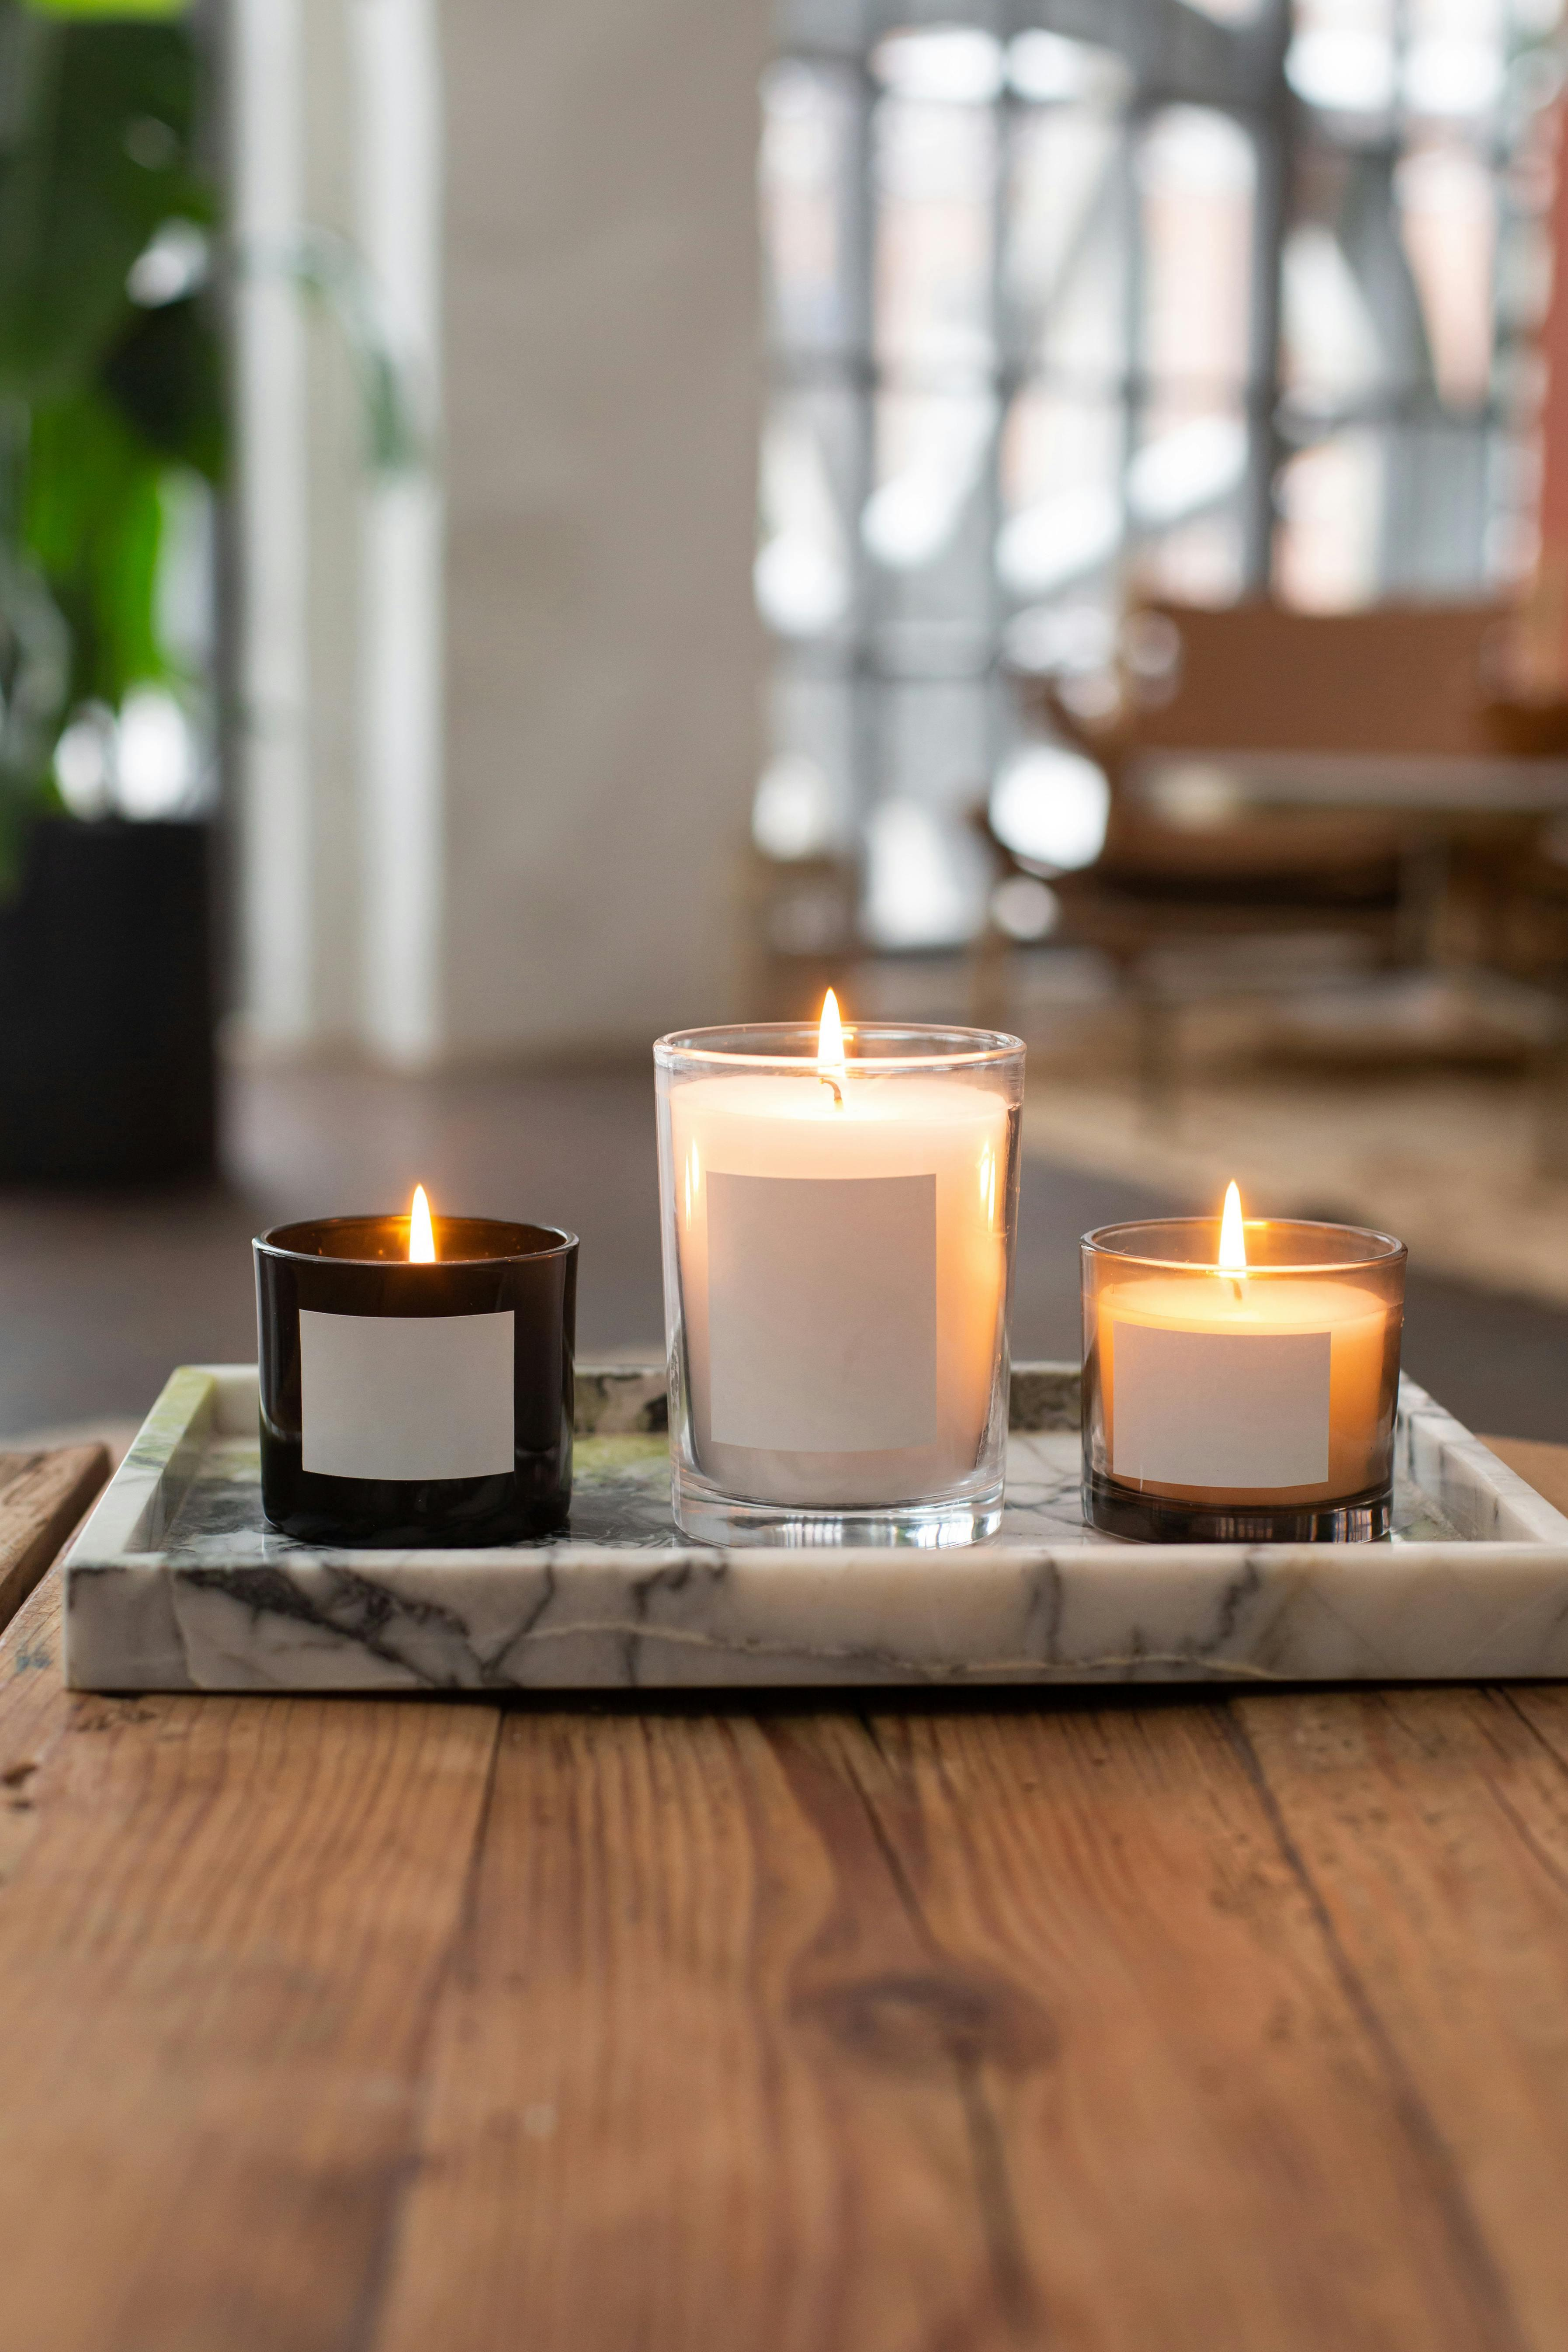Fire: (1181, 1176, 1291, 1272), (787, 966, 873, 1066), (394, 1173, 471, 1279)
